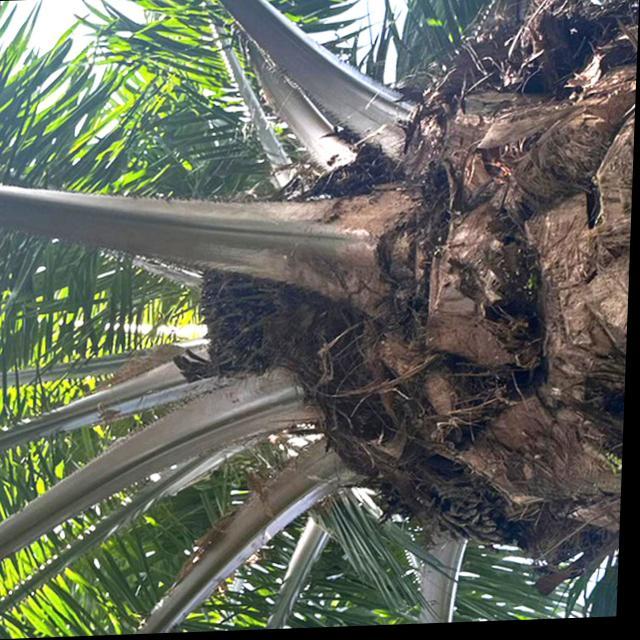unripe: (192, 264, 294, 385)
